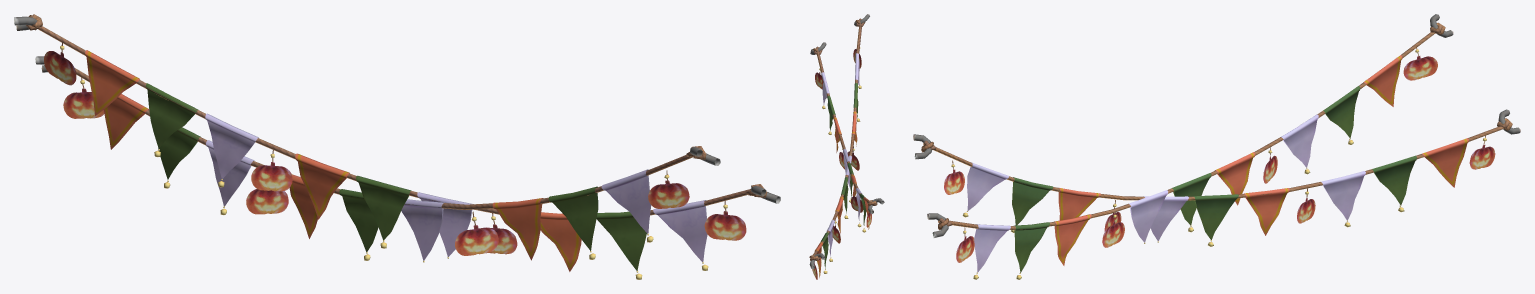
Rendered from pref_sm_beach_WSJ_decorate_light01_b_lv3.fbx.
3 renders of one model, left to right at view 1: azimuth 30°, elevation 25°; view 2: azimuth 150°, elevation 25°; view 3: azimuth 270°, elevation 25°, orthographic. The views are drawn at different scales.
Parts seen in each view (by area): view 1: pref_sm_beach_WSJ_decorate_light01_b_lv3; view 2: pref_sm_beach_WSJ_decorate_light01_b_lv3; view 3: pref_sm_beach_WSJ_decorate_light01_b_lv3.
Boxes of the visible parts, bbox=[...] form: pref_sm_beach_WSJ_decorate_light01_b_lv3: bbox=[14, 14, 780, 279]; pref_sm_beach_WSJ_decorate_light01_b_lv3: bbox=[809, 14, 884, 279]; pref_sm_beach_WSJ_decorate_light01_b_lv3: bbox=[913, 14, 1520, 279].
Bounding box in the file's own units: 11.6 × 5.29 × 16.97.
